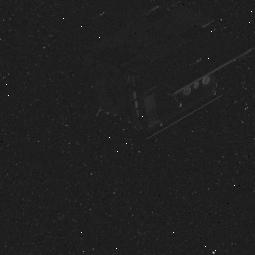proba_2: (94, 0, 239, 125)
